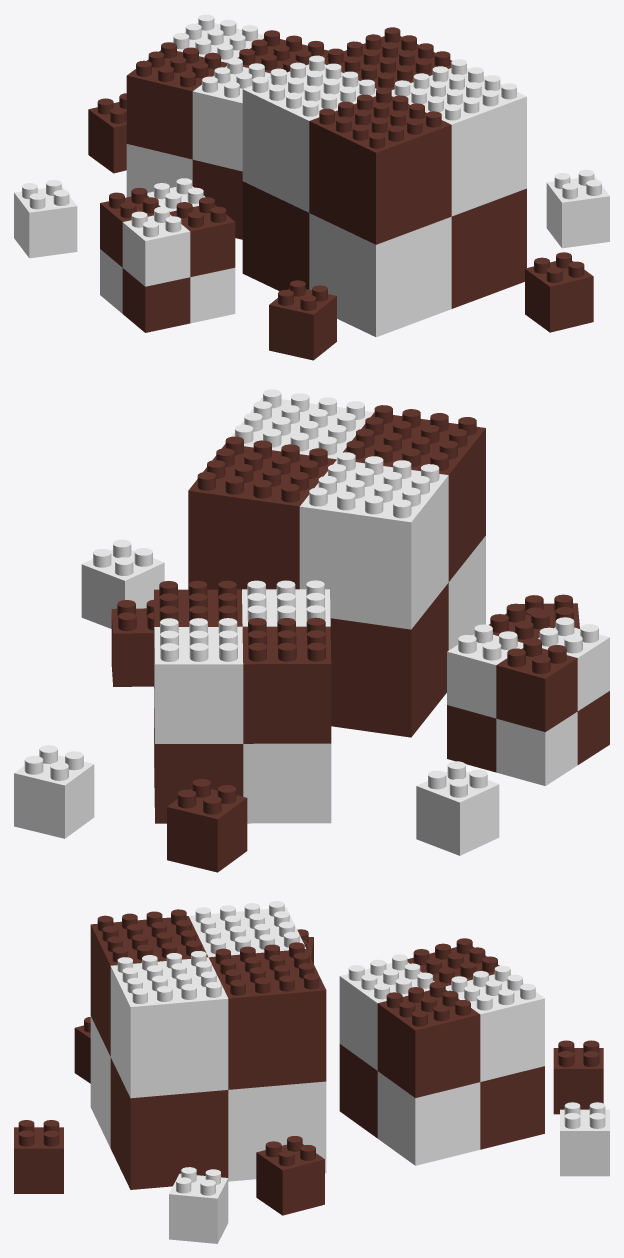
Rendered from Cake_ThemeToys_G.FBX.
3 views of the same model, one above another, from view 1: azimuth 30°, elevation 25°; view 2: azimuth 150°, elevation 25°; view 3: azimuth 270°, elevation 25° (orthographic). The views are drawn at different scales.
Parts seen in each view (by area): view 1: Cake_ThemeToys_G; view 2: Cake_ThemeToys_G; view 3: Cake_ThemeToys_G.
Boxes of the visible parts, x1,y1,x2,y2 form: Cake_ThemeToys_G: (14, 14, 609, 360); Cake_ThemeToys_G: (14, 389, 609, 872); Cake_ThemeToys_G: (14, 901, 609, 1243).
Bounding box in the file's own units: 79630 × 32004 × 89802.
